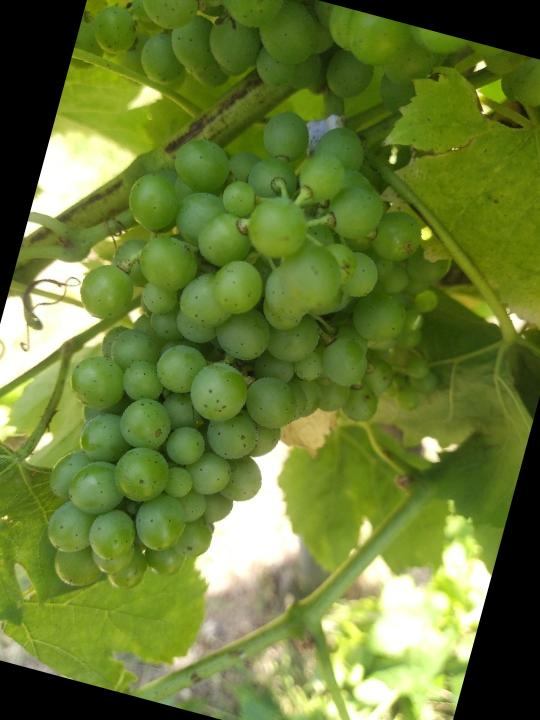grape: (0, 66, 480, 662)
